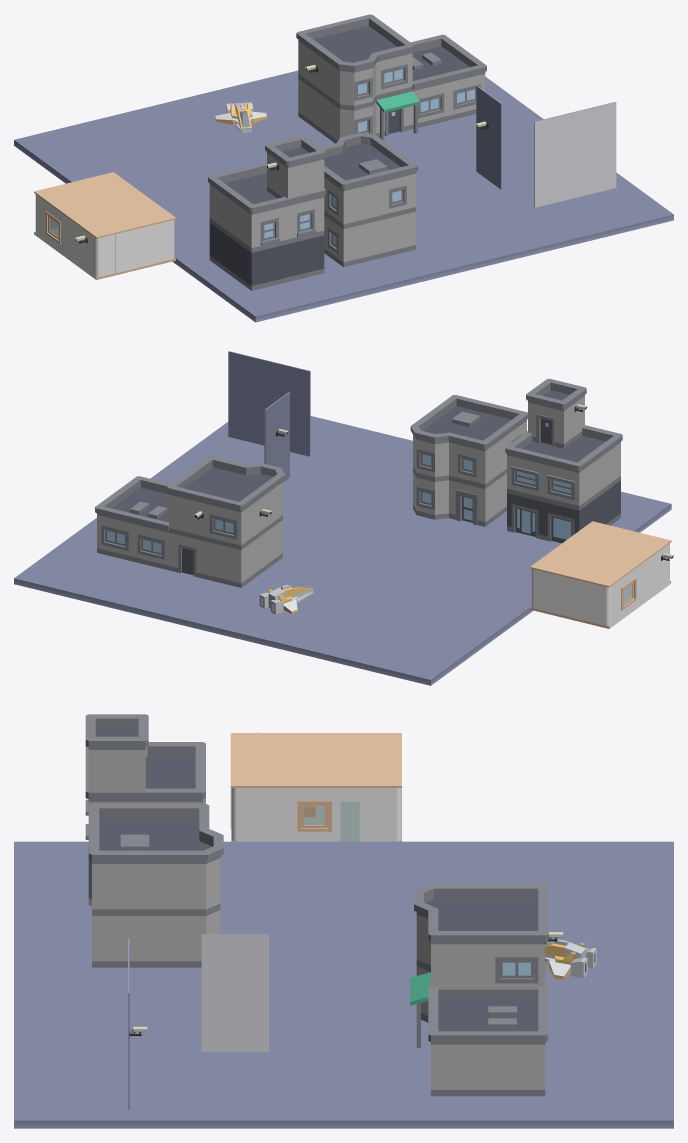
Rendered from democamz1.glb.
3 renders of one model, top to bottom at view 1: azimuth 30°, elevation 25°; view 2: azimuth 150°, elevation 25°; view 3: azimuth 270°, elevation 25°, orthographic. The views are drawn at different scales.
Parts seen in each view (by area): view 1: floor, small_buildingE, small_buildingF, small_buildingB, floor.001, floorFull(Clone), floor.002, wallCornerRond(Clone), wall(Clone).001, wallWindow(Clone).001, craft_speederA, wallCornerRond(Clone).005 (+1 smaller); view 2: floor, small_buildingE, small_buildingF, small_buildingB, floor.001, floorFull(Clone), wallCornerRond(Clone).002, floor.002, craft_speederA, wallWindow(Clone).001, wallCornerRond(Clone), wallCornerRond(Clone).007 (+1 smaller); view 3: floor, small_buildingE, small_buildingB, small_buildingF, floorFull(Clone), floor.002, wallWindow(Clone), wallCornerRond(Clone).005, wallCornerRond(Clone).007, craft_speederA, Floor.002, window.
Part boxes in pixels (<box>): floor: <box>14,70,673,322</box>; small_buildingE: <box>296,14,486,143</box>; small_buildingF: <box>208,135,325,290</box>; small_buildingB: <box>321,133,417,267</box>; floor.001: <box>534,102,616,207</box>; floorFull(Clone): <box>34,172,176,238</box>; floor.002: <box>476,86,501,189</box>; wallCornerRond(Clone): <box>71,221,115,277</box>; wall(Clone).001: <box>115,224,156,273</box>; wallWindow(Clone).001: <box>44,200,71,259</box>; craft_speederA: <box>215,102,266,132</box>; wallCornerRond(Clone).005: <box>157,220,174,262</box>; floor: <box>14,416,671,685</box>; small_buildingE: <box>95,456,285,587</box>; small_buildingF: <box>505,378,622,543</box>; small_buildingB: <box>410,395,527,526</box>; floor.001: <box>228,351,310,456</box>; floorFull(Clone): <box>530,521,671,587</box>; wallCornerRond(Clone).002: <box>549,573,619,625</box>; floor.002: <box>264,392,289,482</box>; craft_speederA: <box>259,584,313,614</box>; wallWindow(Clone).001: <box>619,560,646,618</box>; wallCornerRond(Clone): <box>646,543,669,598</box>; wallCornerRond(Clone).007: <box>531,569,548,611</box>; floor: <box>14,841,673,1128</box>; small_buildingE: <box>410,884,548,1096</box>; small_buildingB: <box>89,804,223,967</box>; small_buildingF: <box>85,714,205,905</box>; floorFull(Clone): <box>230,733,401,787</box>; floor.002: <box>201,934,268,1051</box>; wallWindow(Clone): <box>279,788,340,841</box>; wallCornerRond(Clone).005: <box>231,788,278,841</box>; wallCornerRond(Clone).007: <box>359,788,401,841</box>; craft_speederA: <box>545,939,596,979</box>; Floor.002: <box>231,801,401,841</box>; window: <box>301,804,328,828</box>.
Bounding box in the file's own units: 73.02 × 17.45 × 60.
Materials: 52 (3 with a texture image).
